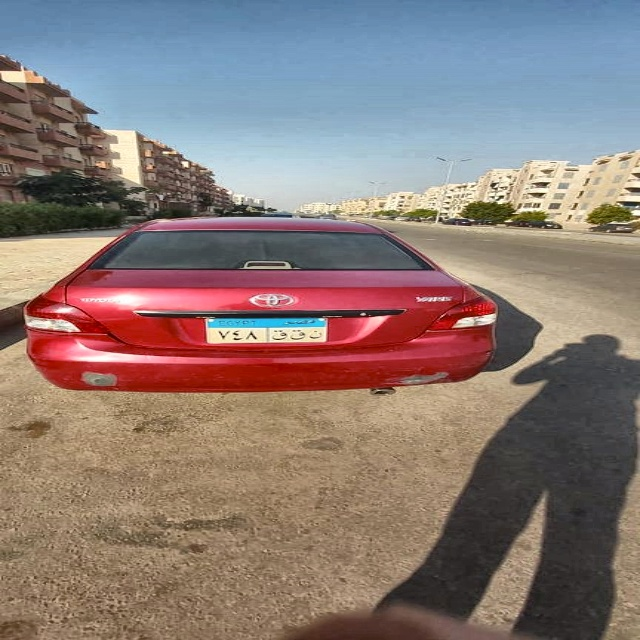License Plate: (206, 317, 330, 345)
